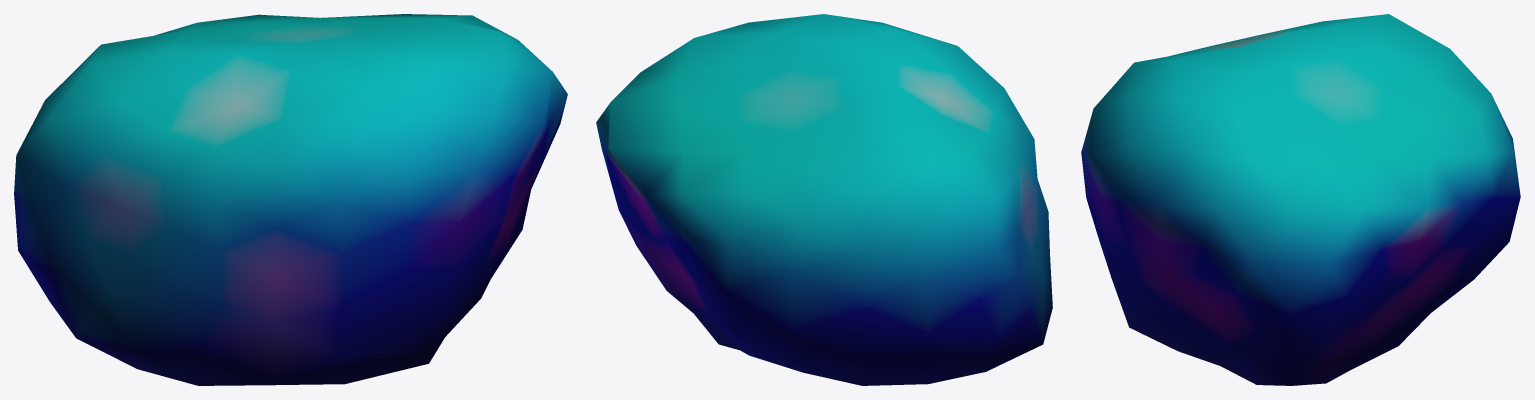
Rendered from RockAngular_1_lod1.glb.
3 renders of one model, left to right at view 1: azimuth 30°, elevation 25°; view 2: azimuth 150°, elevation 25°; view 3: azimuth 270°, elevation 25°, orthographic. The views are drawn at different scales.
Visible parts, largest first — view 1: RockAngular_1_lod1; view 2: RockAngular_1_lod1; view 3: RockAngular_1_lod1.
Part boxes in pixels (x1,y1,x2,y2): RockAngular_1_lod1: (14,14,567,385); RockAngular_1_lod1: (596,14,1052,385); RockAngular_1_lod1: (1081,14,1520,385).
Bounding box in the file's own units: 2.26 × 1.3 × 1.91.
